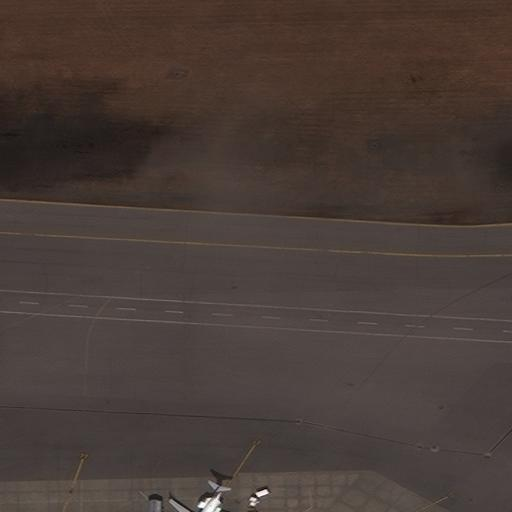Medium Civil Transport: (168, 483, 235, 512)
